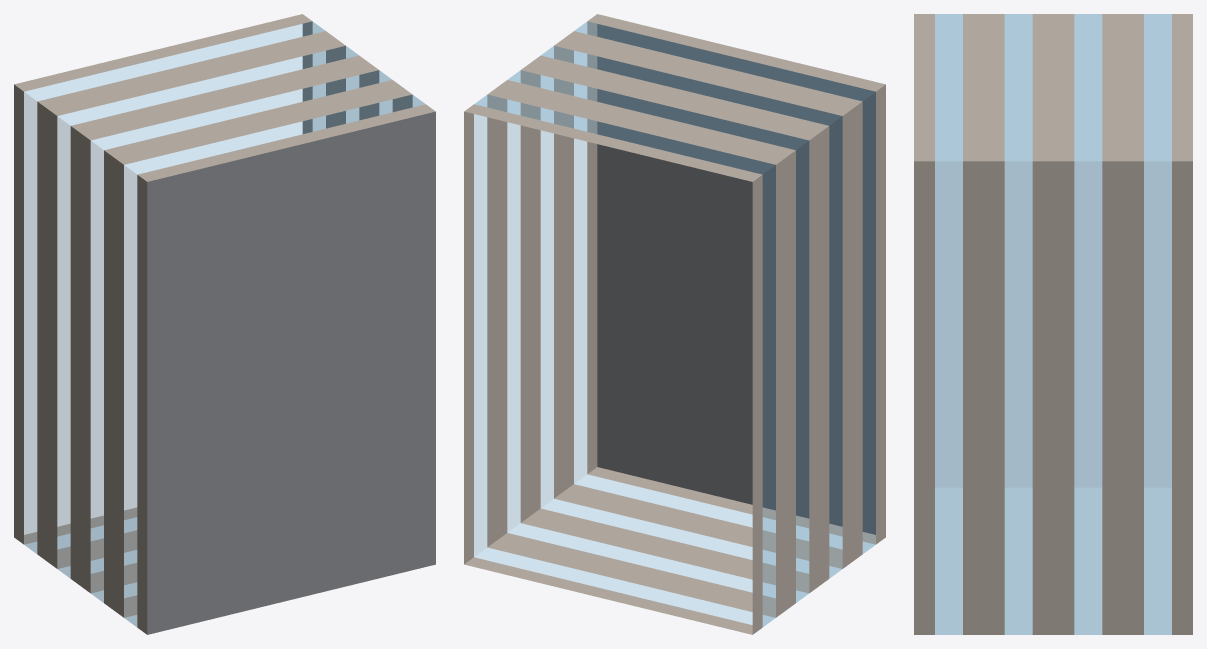
3 views of the same model, side by side, from view 1: azimuth 30°, elevation 25°; view 2: azimuth 150°, elevation 25°; view 3: azimuth 270°, elevation 25° (orthographic). The views are drawn at different scales.
Visible parts, largest first — view 1: Atap_Beton, Dinding_Bata, Kaca_Jendela; view 2: Dinding_Bata, Atap_Beton, Kaca_Jendela; view 3: Dinding_Bata, Kaca_Jendela.
Part boxes in pixels (x1,y1,x2,y2): Atap_Beton: [147, 111, 435, 634]; Dinding_Bata: [14, 14, 435, 634]; Kaca_Jendela: [24, 21, 424, 626]; Dinding_Bata: [464, 14, 885, 634]; Atap_Beton: [597, 24, 875, 534]; Kaca_Jendela: [474, 21, 875, 626]; Dinding_Bata: [914, 14, 1192, 634]; Kaca_Jendela: [935, 14, 1171, 634].
Size of the model in its own units: 20 by 30 by 16.
